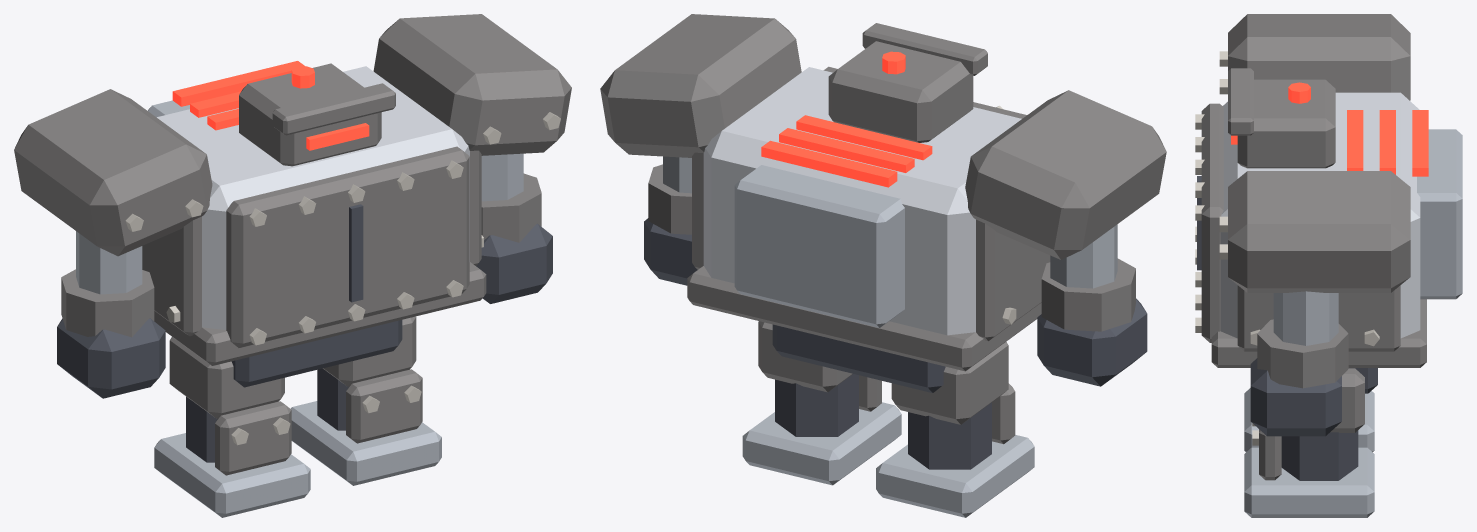
The model's file is ironclad.glb.
The picture shows the model from 3 angles, left to right: view 1: azimuth 30°, elevation 25°; view 2: azimuth 150°, elevation 25°; view 3: azimuth 270°, elevation 25°; orthographic projection. The views are drawn at different scales.
Parts seen in each view (by area): view 1: Cube.008, Cube.011, Cube.014, Cube.007, Cube.017, Cube.005, Cube.002, Cube.012, Cube.016, Cube, Cube.010, Cube.004 (+16 smaller); view 2: Cube.007, Cube.011, Cube.019, Cube.014, Cube.017, Cube.016, Cube.002, Cube.005, Cube.010, Cube.012, Cube, Cube.004 (+15 smaller); view 3: Cube.014, Cube.011, Cube.007, Cube.017, Cube.019, Cube.002, Cube.013, Cube.015, Cube.008, Cylinder.031, Cylinder, Cylinder.030 (+11 smaller).
Part boxes in pixels (left/top/right/bottom): Cube.008: left=226, top=146, right=469, bottom=347; Cube.011: left=14, top=89, right=212, bottom=256; Cube.014: left=373, top=14, right=571, bottom=155; Cube.007: left=157, top=66, right=469, bottom=329; Cube.017: left=239, top=63, right=381, bottom=166; Cube.005: left=154, top=433, right=310, bottom=517; Cube.002: left=290, top=401, right=441, bottom=485; Cube.012: left=57, top=318, right=165, bottom=398; Cube.016: left=154, top=262, right=486, bottom=365; Cube: left=231, top=320, right=402, bottom=387; Cube.010: left=142, top=216, right=201, bottom=336; Cube.004: left=169, top=337, right=284, bottom=418; Cube.007: left=703, top=67, right=1021, bottom=335; Cube.011: left=965, top=90, right=1166, bottom=259; Cube.019: left=734, top=165, right=904, bottom=327; Cube.014: left=600, top=14, right=801, bottom=157; Cube.017: left=828, top=41, right=973, bottom=142; Cube.016: left=687, top=266, right=1041, bottom=371; Cube.002: left=742, top=402, right=901, bottom=485; Cube.005: left=876, top=435, right=1034, bottom=517; Cube.010: left=976, top=219, right=1050, bottom=341; Cube.012: left=1037, top=298, right=1147, bottom=386; Cube: left=772, top=324, right=945, bottom=392; Cube.004: left=891, top=342, right=1008, bottom=424; Cube.014: left=1228, top=171, right=1410, bottom=292; Cube.011: left=1228, top=14, right=1410, bottom=100; Cube.007: left=1220, top=92, right=1420, bottom=338; Cube.017: left=1237, top=79, right=1335, bottom=168; Cube.019: left=1417, top=129, right=1462, bottom=299; Cube.002: left=1244, top=447, right=1374, bottom=517; Cube.013: left=1237, top=285, right=1400, bottom=351; Cube.015: left=1250, top=358, right=1341, bottom=436; Cube.008: left=1201, top=103, right=1223, bottom=342; Cylinder.031: left=1257, top=319, right=1348, bottom=388; Cylinder: left=1281, top=430, right=1358, bottom=480; Cylinder.030: left=1273, top=291, right=1338, bottom=345.
Bounding box in the file's own units: 1.62 × 1.29 × 0.82.
